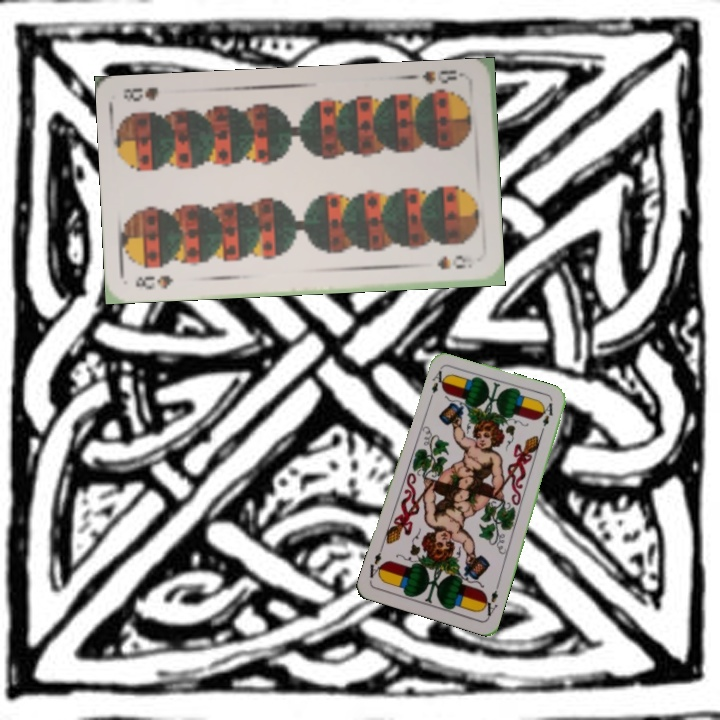EA: (478, 586, 501, 620), (427, 366, 445, 396)
S8: (418, 66, 469, 87), (131, 271, 176, 292)
